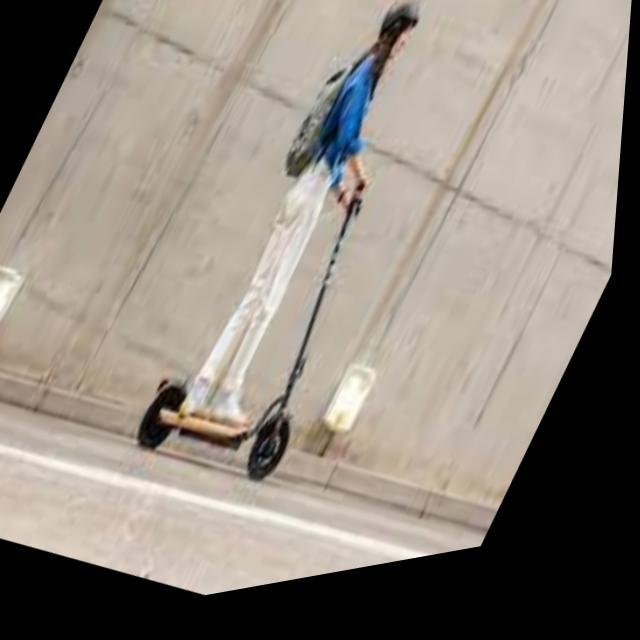Helmet: (366, 0, 426, 65)
